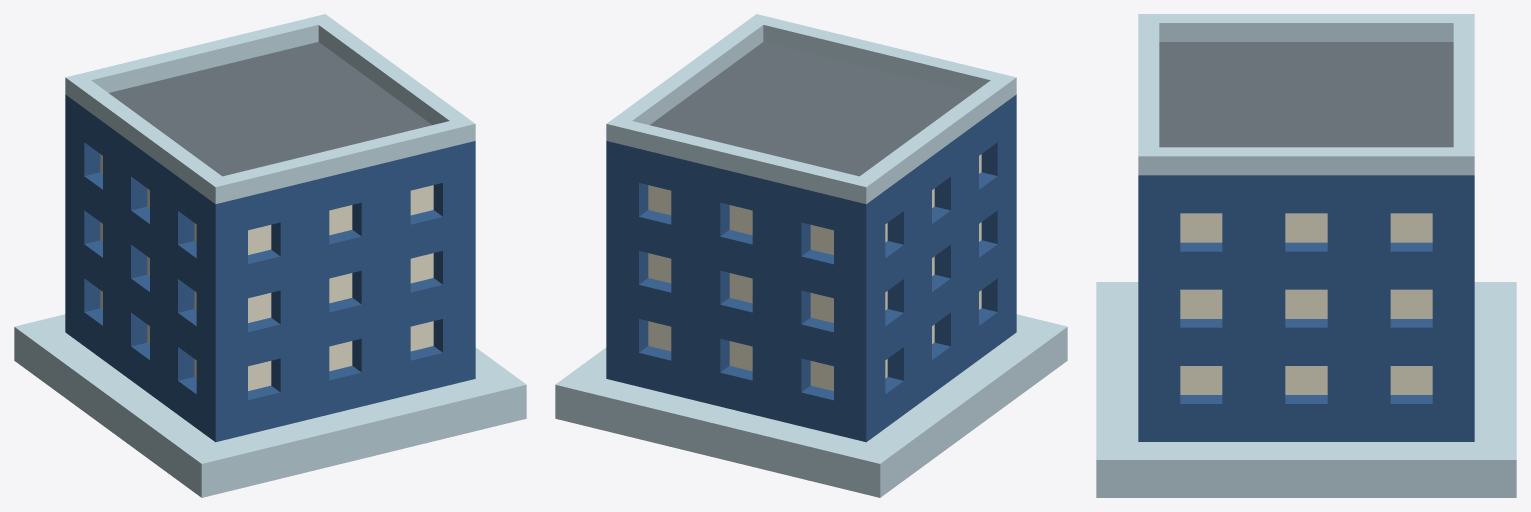
Rendered from Building_2_Base (Blue).obj.
3 views of the same model, side by side, from view 1: azimuth 30°, elevation 25°; view 2: azimuth 150°, elevation 25°; view 3: azimuth 270°, elevation 25° (orthographic). The views are drawn at different scales.
Parts seen in each view (by area): view 1: Building_2_Base_(Blue); view 2: Building_2_Base_(Blue); view 3: Building_2_Base_(Blue).
Boxes of the visible parts, left/top/right/bottom form: Building_2_Base_(Blue): left=14, top=14, right=526, bottom=497; Building_2_Base_(Blue): left=555, top=14, right=1067, bottom=497; Building_2_Base_(Blue): left=1096, top=14, right=1516, bottom=497.
Bounding box in the file's own units: 2 × 1.7 × 2.
